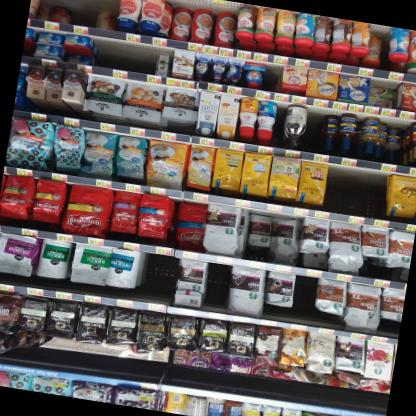empty_space: (327, 162, 385, 212), (136, 251, 177, 295), (202, 259, 230, 308), (293, 272, 318, 317), (129, 40, 155, 72), (99, 38, 126, 67), (47, 0, 109, 9)
